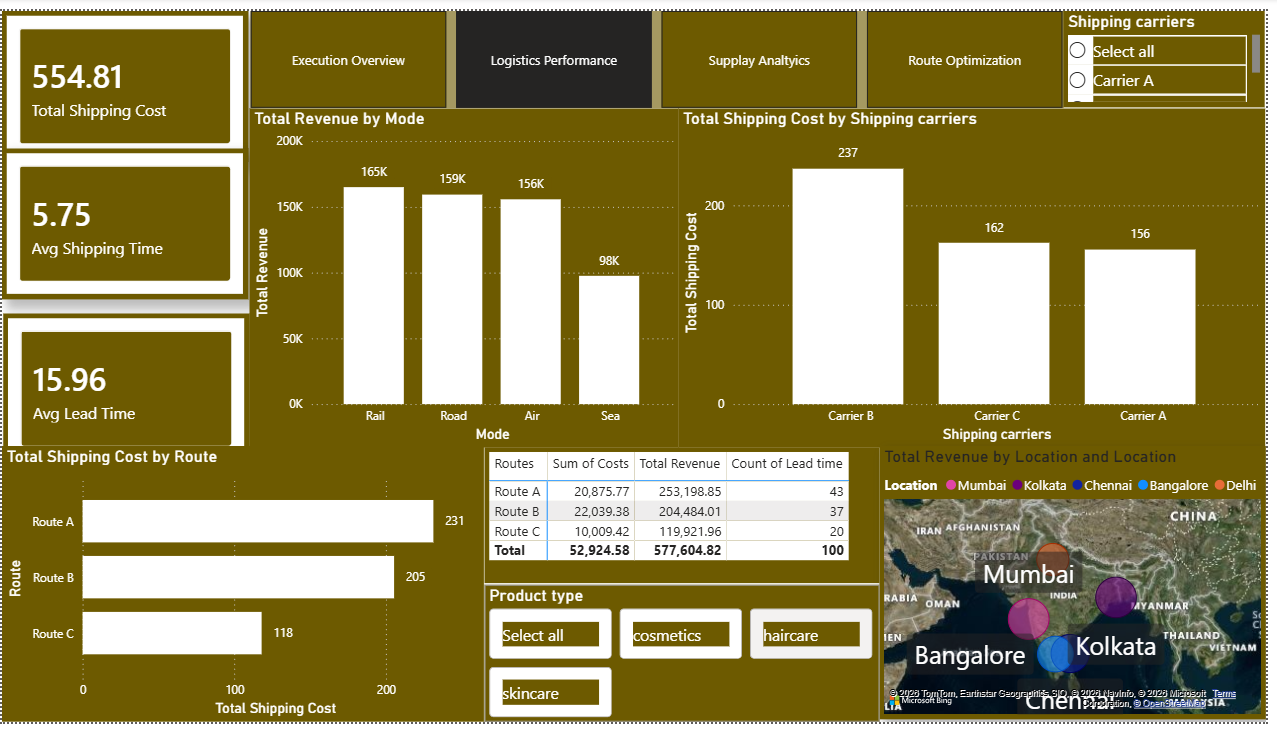

This screenshot's page, from the dashboard's own definition file:
{"tool":"powerbi","page":{"name":"Logistics Performance","canvas":[1280,720],"ordinal":1},"visuals":[{"type":"cardVisual","fields":{"Data":["Measure.Total Shipping Cost"]},"box":[0,0,249.5,152.9],"z":0},{"type":"cardVisual","fields":{"Data":["Measure.Avg Shipping Time"]},"box":[0,139.4,249.5,152.9],"z":1000},{"type":"cardVisual","fields":{"Data":["Measure.Avg Lead Time"]},"box":[1.4,305.9,249.6,152.9],"z":2000},{"type":"barChart","fields":{"Category":["Dim_Route.Route"],"Y":["Measure.Total Shipping Cost"]},"box":[0,441,488,279],"z":3000},{"type":"columnChart","fields":{"Y":["Measure.Total Revenue"],"Category":["Dim_Transport.Mode"]},"box":[251,98.1,434.3,343.4],"z":4000},{"type":"columnChart","fields":{"Y":["Measure.Total Shipping Cost"],"Category":["Fact_supply chain.Shipping carriers"]},"box":[685.3,98.1,594.4,343.4],"z":5000},{"type":"pivotTable","fields":{"Rows":["Fact_supply chain.Routes"],"Values":["Sum(Fact_supply chain.Costs)","Measure.Total Revenue","CountNonNull(Fact_supply chain.Lead time)"]},"box":[488.6,441.8,400,138],"z":6000},{"type":"map","fields":{"Series":["Fact_supply chain.Location"],"Size":["Measure.Total Revenue"],"Category":["Fact_supply chain.Location"]},"box":[888,441,391,277],"z":7000},{"type":"listSlicer","fields":{"Values":["Fact_supply chain.Shipping carriers"]},"box":[1074.9,0,204.2,97.8],"z":8000},{"type":"pageNavigator","box":[251.7,0,823.5,98.1],"z":9000},{"type":"advancedSlicerVisual","fields":{"Values":["Fact_supply chain.Product type"]},"box":[488.6,581,400,139.2],"z":9001}]}

Visuals, with their boxes in screenshot pixels (x1, y1, x2, y2), scaled from the page's 1280x720 canvas onto the 1277x732 screenshot:
cardVisual - Measure.Total Shipping Cost: 0 0 249 155
cardVisual - Measure.Avg Shipping Time: 0 142 249 297
cardVisual - Measure.Avg Lead Time: 1 311 250 466
barChart - Dim_Route.Route x Measure.Total Shipping Cost: 0 448 487 731
columnChart - Measure.Total Revenue x Dim_Transport.Mode: 250 100 684 449
columnChart - Measure.Total Shipping Cost x Fact_supply chain.Shipping carriers: 684 100 1276 449
pivotTable - Fact_supply chain.Routes x Sum(Fact_supply chain.Costs): 487 449 887 589
map - Fact_supply chain.Location x Measure.Total Revenue: 886 448 1276 730
listSlicer - Fact_supply chain.Shipping carriers: 1072 0 1276 99
pageNavigator: 251 0 1073 100
advancedSlicerVisual - Fact_supply chain.Product type: 487 591 887 731
